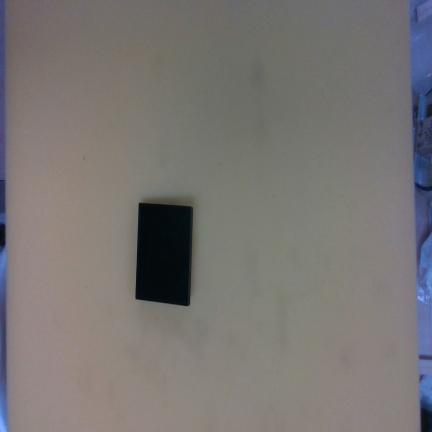tile: (134, 201, 192, 308)
